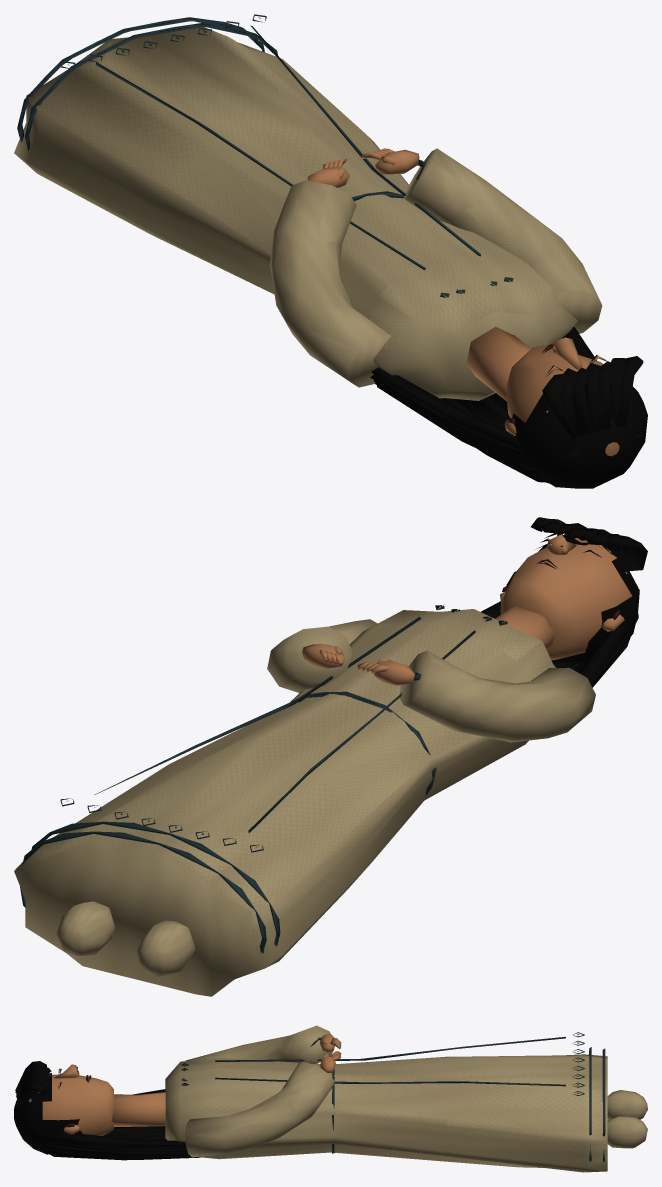
File: mono_sleep_lod2.glb
3 renders of one model, top to bottom at view 1: azimuth 30°, elevation 25°; view 2: azimuth 150°, elevation 25°; view 3: azimuth 270°, elevation 25°, orthographic. The views are drawn at different scales.
Parts seen in each view (by area): view 1: Mono_Sleep_Detailed.001; view 2: Mono_Sleep_Detailed.001; view 3: Mono_Sleep_Detailed.001.
Boxes of the visible parts, x1,y1,x2,y2 form: Mono_Sleep_Detailed.001: (14,14,647,488); Mono_Sleep_Detailed.001: (14,517,647,996); Mono_Sleep_Detailed.001: (14,1025,647,1172).
Size of the model in its own units: 0.6183 by 0.3562 by 1.92.
Materials: 1 (1 with a texture image).
